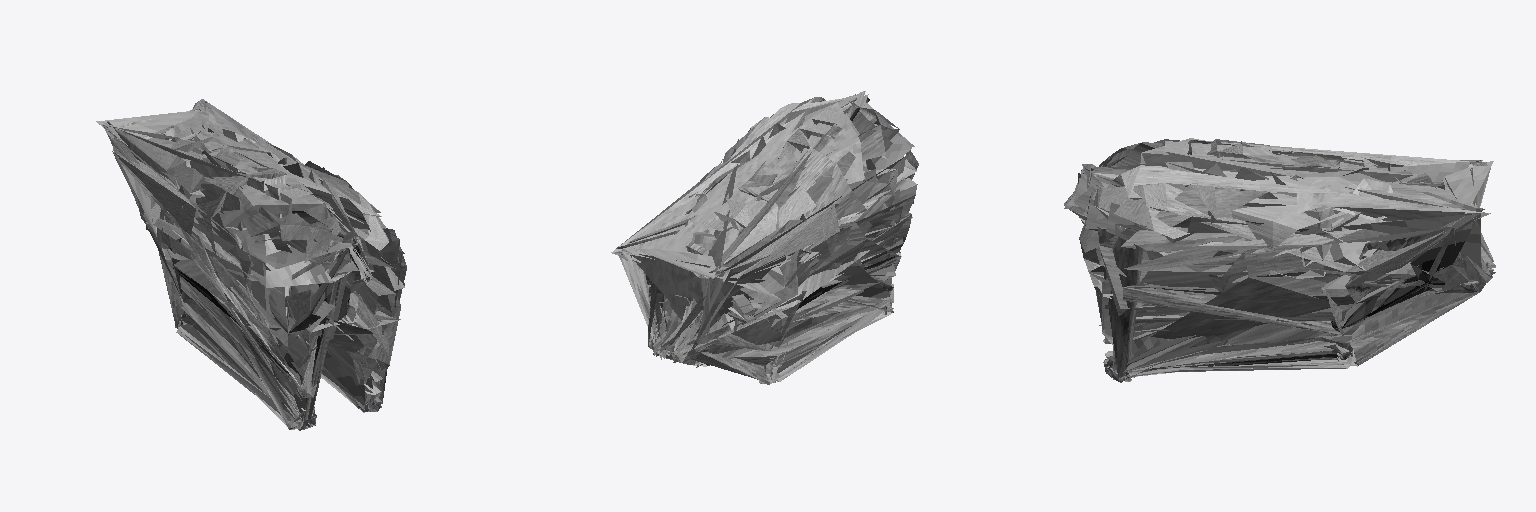
3 views of the same model, side by side, from view 1: azimuth 30°, elevation 25°; view 2: azimuth 150°, elevation 25°; view 3: azimuth 270°, elevation 25° (orthographic).
Parts seen in each view (by area): view 1: object_1; view 2: object_1; view 3: object_1.
Part boxes in pixels (bbox=[...]): object_1: bbox=[96, 99, 406, 430]; object_1: bbox=[611, 91, 918, 384]; object_1: bbox=[1064, 138, 1495, 382].
Size of the model in its own units: 0.127 by 0.1799 by 0.3356.
1 materials, 1 textured.